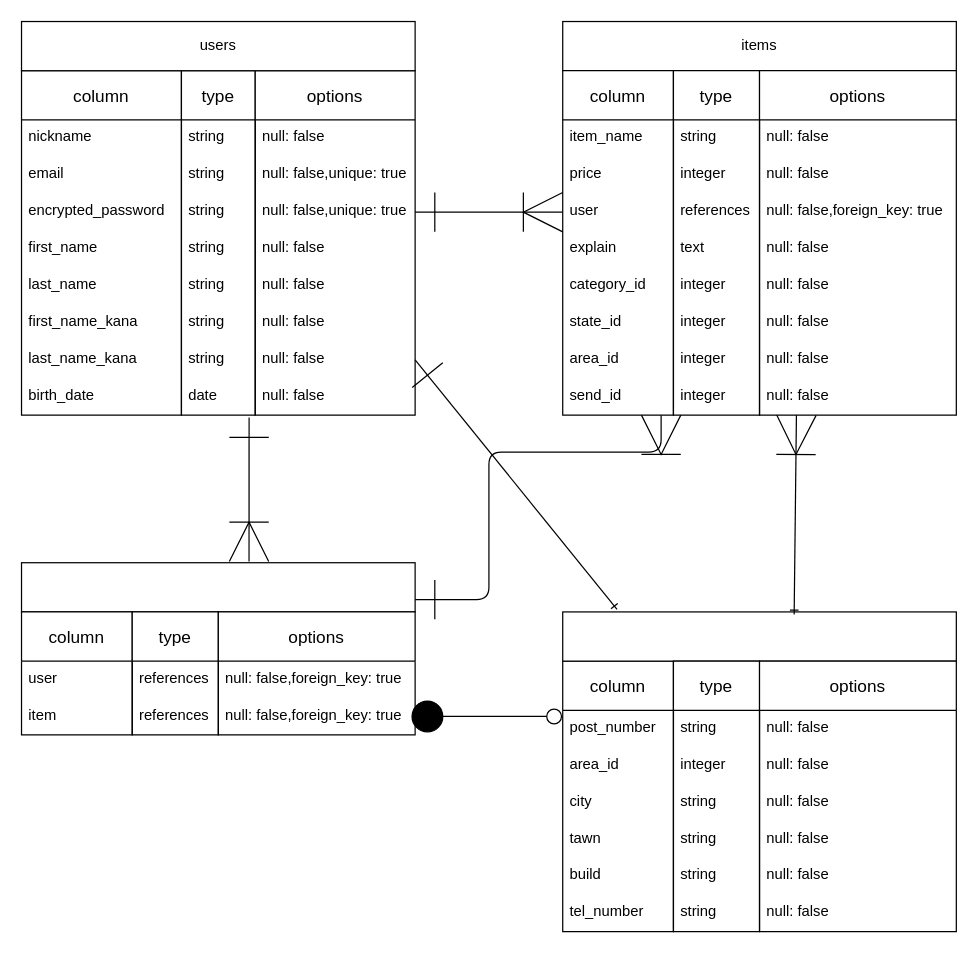
The diagram is 978 pixels wide and 957 high, and some of its shapes have lost their labels. The centre of each missing label's shape, as x and y in pixels:
deliveries: point (758, 636)
orders: point (217, 586)
